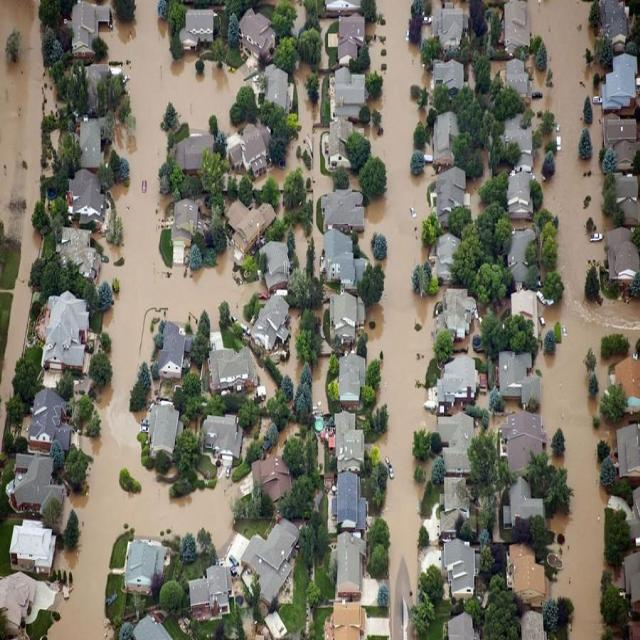flooded_areas: (94, 2, 324, 639), (526, 5, 635, 639), (362, 2, 444, 639), (0, 1, 45, 437)
